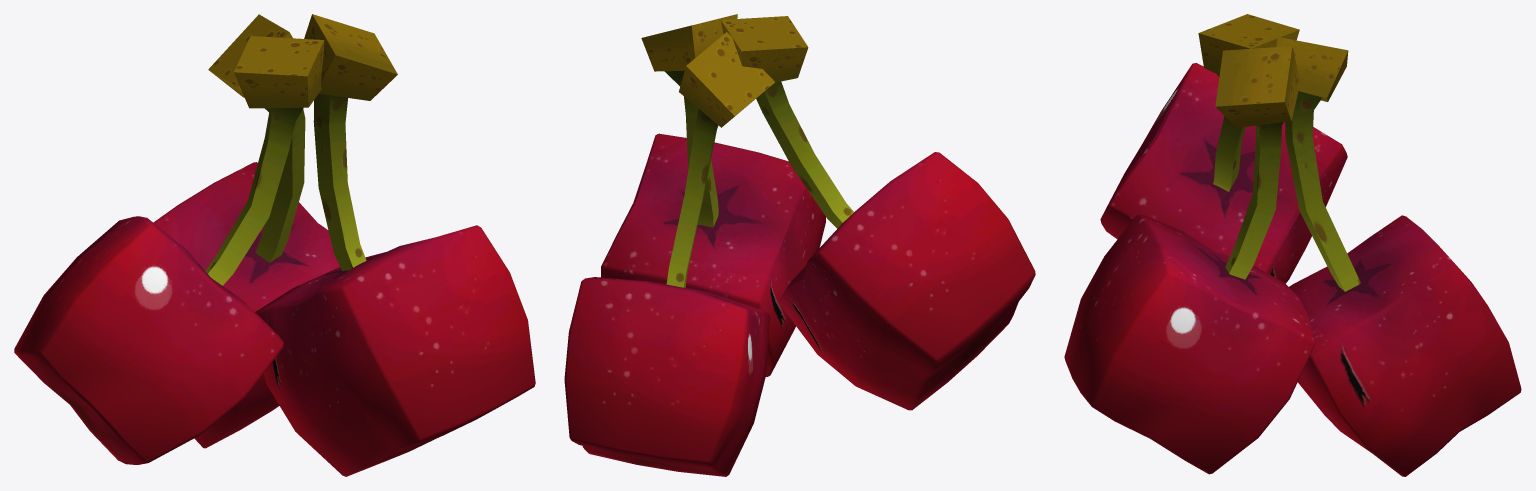
The model's file is Cherries.fbx.
3 views of the same model, side by side, from view 1: azimuth 30°, elevation 25°; view 2: azimuth 150°, elevation 25°; view 3: azimuth 270°, elevation 25° (orthographic). The views are drawn at different scales.
Visible parts, largest first — view 1: node_id30, node_id32, node_id34; view 2: node_id32, node_id34, node_id30; view 3: node_id30, node_id34, node_id32.
Part boxes in pixels (x1,y1,x2,y2): node_id30: (255, 14, 535, 476); node_id32: (14, 36, 324, 464); node_id34: (153, 14, 339, 448); node_id32: (721, 16, 1035, 410); node_id34: (564, 32, 775, 476); node_id30: (601, 14, 825, 376); node_id30: (1064, 46, 1314, 474); node_id34: (1276, 37, 1521, 476); node_id32: (1100, 14, 1347, 283).
Size of the model in its own units: 0.4607 by 0.439 by 0.4338.
3 materials, 3 textured.
